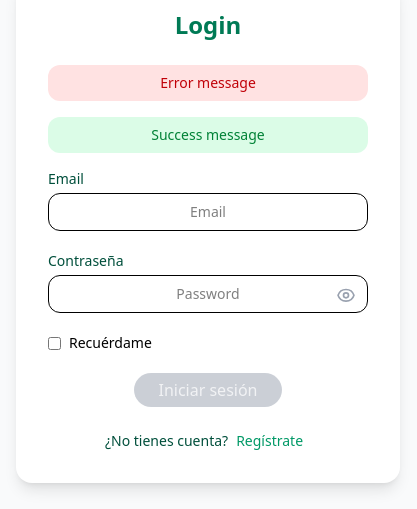
it: LoginPage › Form validation › should enable submit button when email and password are filled
In the field labelled "Email": (208, 212) [48,193,368,231], type "test@example.com"
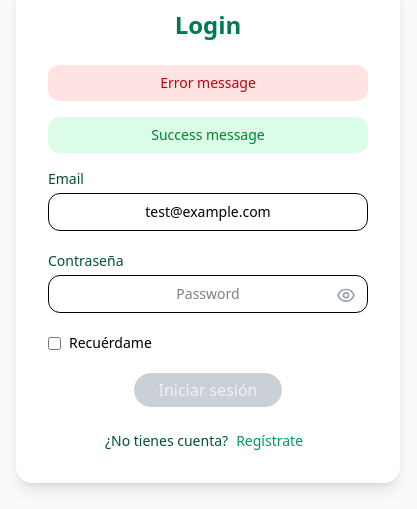
In the password field labelled "Contraseña": (208, 294) [48,275,368,313], type "password123"
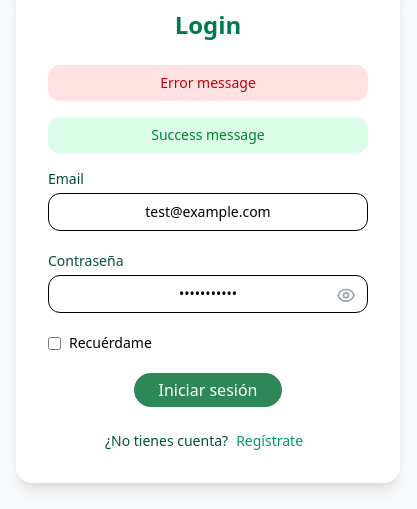
Now the button "Iniciar sesión" is enabled, box [134,373,282,407]
